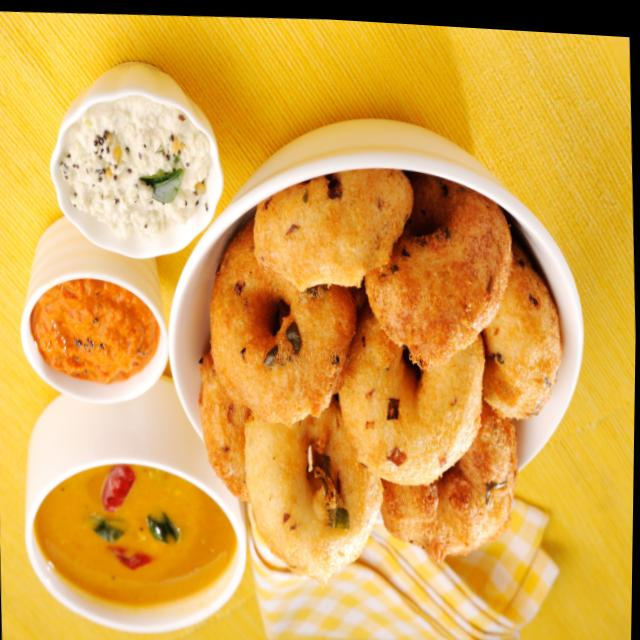RED CHUTNEY: (29, 275, 155, 385)
SAMBAR: (35, 458, 234, 607)
VADA: (198, 169, 559, 585)
WHITE CHUTNEY: (61, 93, 215, 239)
